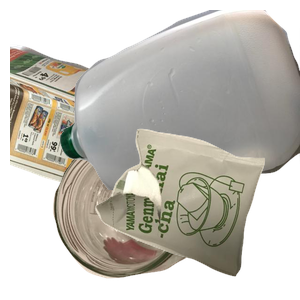glass: (50, 131, 252, 300)
paper: (10, 42, 224, 222)
plastic: (60, 10, 300, 190)
trash: (93, 126, 300, 300)
